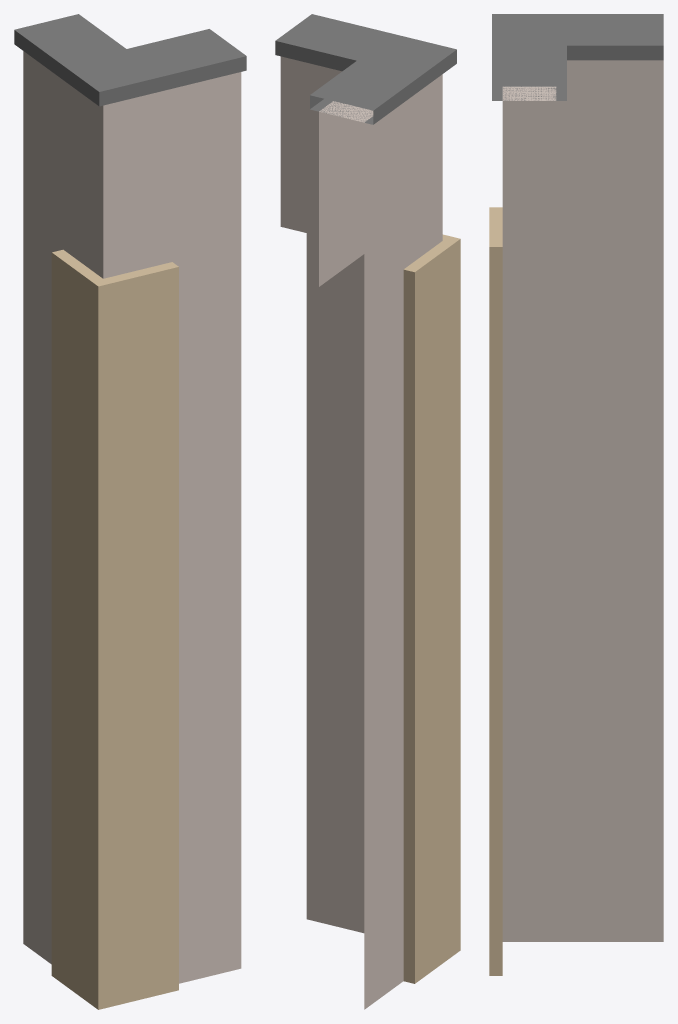
File: top-c1.fbx
The picture shows the model from 3 angles, left to right: view 1: azimuth 30°, elevation 25°; view 2: azimuth 150°, elevation 25°; view 3: azimuth 270°, elevation 25°; orthographic projection. The views are drawn at different scales.
Parts seen in each view (by area): view 1: a2001/200/top-c1; view 2: a2001/200/top-c1; view 3: a2001/200/top-c1.
Boxes of the visible parts, <box> form: a2001/200/top-c1: <box>14,14,246,1009</box>; a2001/200/top-c1: <box>275,14,460,1009</box>; a2001/200/top-c1: <box>489,14,663,975</box>.
Size of the model in its own units: 0.65 by 3.8 by 0.65.
